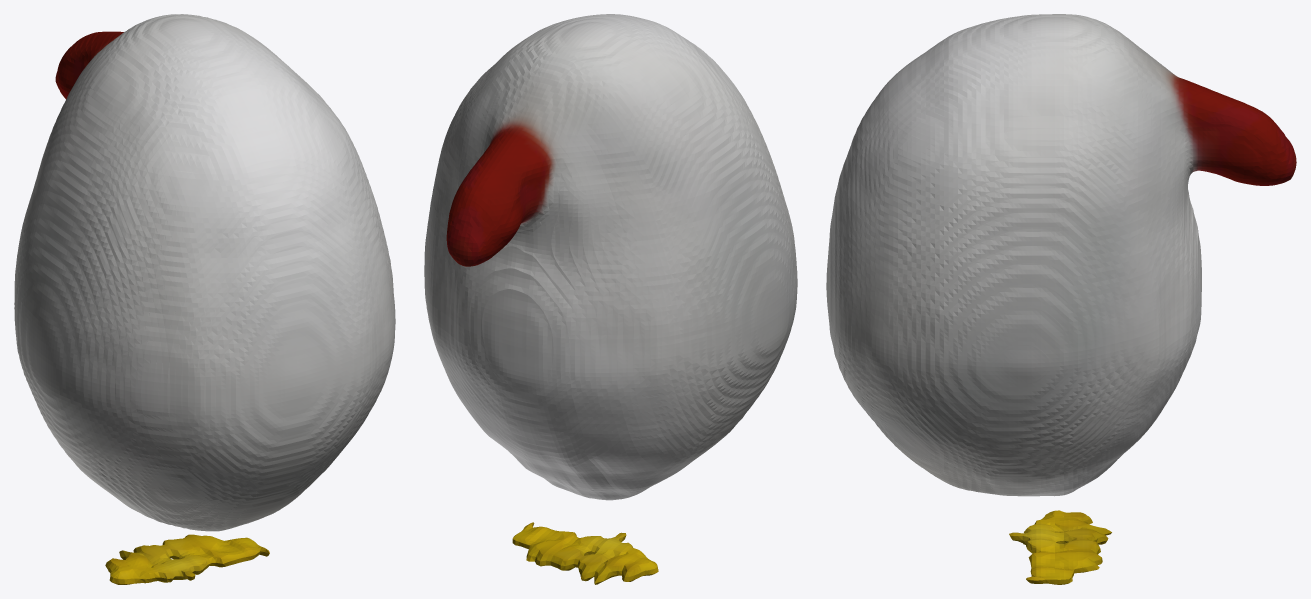
3 views of the same model, side by side, from view 1: azimuth 30°, elevation 25°; view 2: azimuth 150°, elevation 25°; view 3: azimuth 270°, elevation 25° (orthographic). The views are drawn at different scales.
Parts seen in each view (by area): view 1: tmpp3g_z48t.ply; view 2: tmpp3g_z48t.ply; view 3: tmpp3g_z48t.ply.
Boxes of the visible parts, x1,y1,x2,y2 form: tmpp3g_z48t.ply: (14, 14, 395, 584); tmpp3g_z48t.ply: (424, 14, 797, 584); tmpp3g_z48t.ply: (826, 14, 1296, 584).
Bounding box in the file's own units: 1.25 × 1.97 × 1.58.
